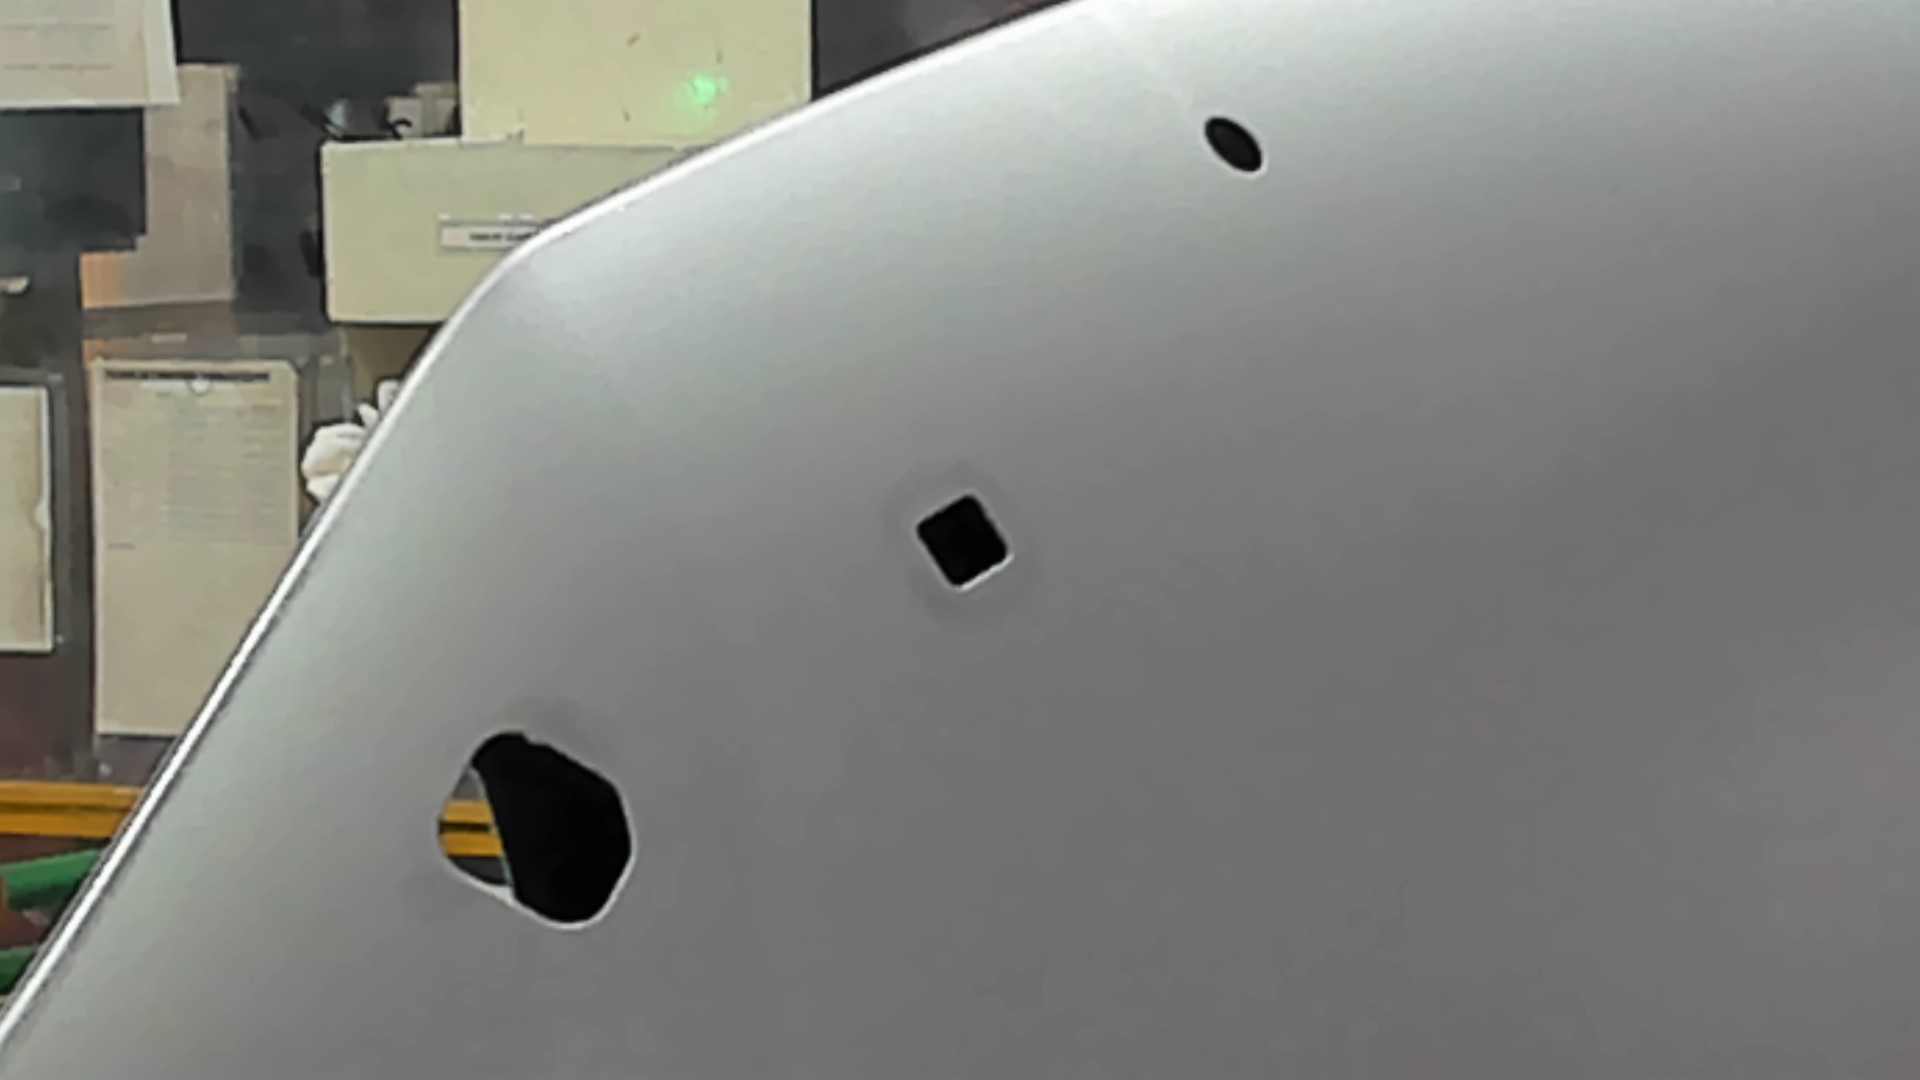chico: (1196, 105, 1273, 181)
grande: (415, 713, 661, 956)
mediano: (895, 477, 1036, 604)
